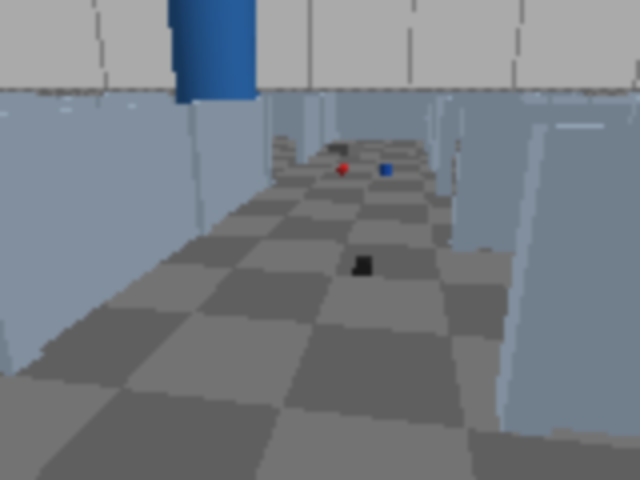puck: (354, 255, 374, 277)
